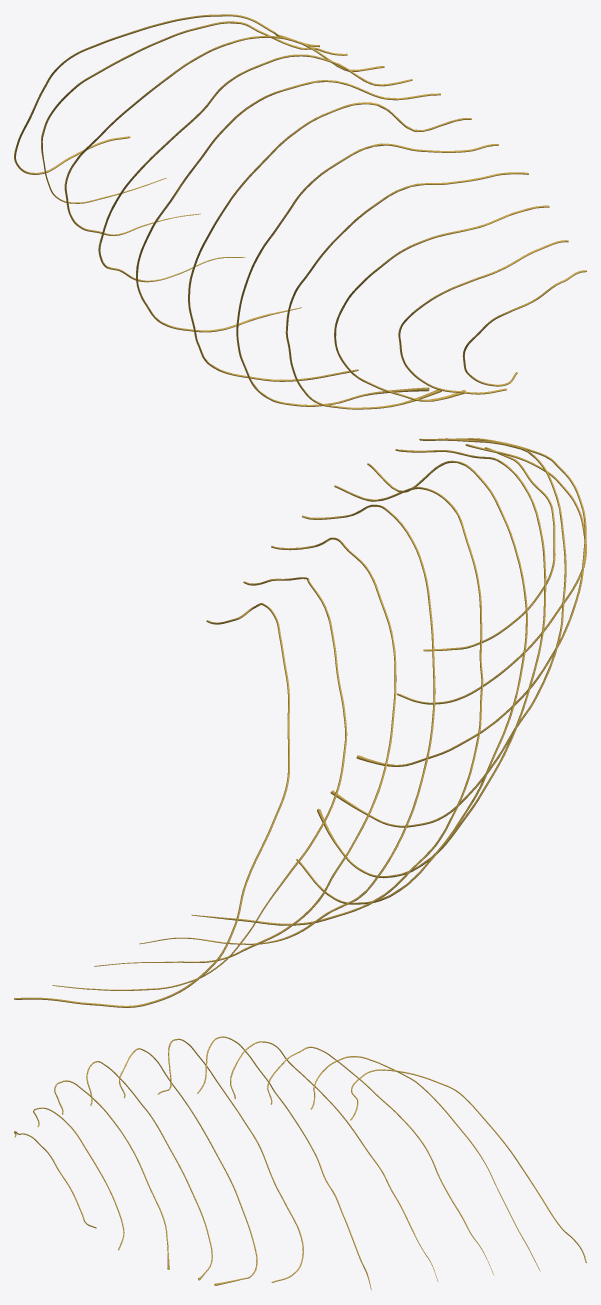
3 renders of one model, top to bottom at view 1: azimuth 30°, elevation 25°; view 2: azimuth 150°, elevation 25°; view 3: azimuth 270°, elevation 25°, orthographic. The views are drawn at different scales.
Visible parts, largest first — view 1: 右侧肋间神经; view 2: 右侧肋间神经; view 3: 右侧肋间神经.
Boxes of the visible parts, x1,y1,x2,y2 form: 右侧肋间神经: [14, 14, 586, 409]; 右侧肋间神经: [14, 438, 586, 1007]; 右侧肋间神经: [14, 1036, 586, 1290].
Size of the model in its own units: 0.1844 by 0.2882 by 0.6685.
